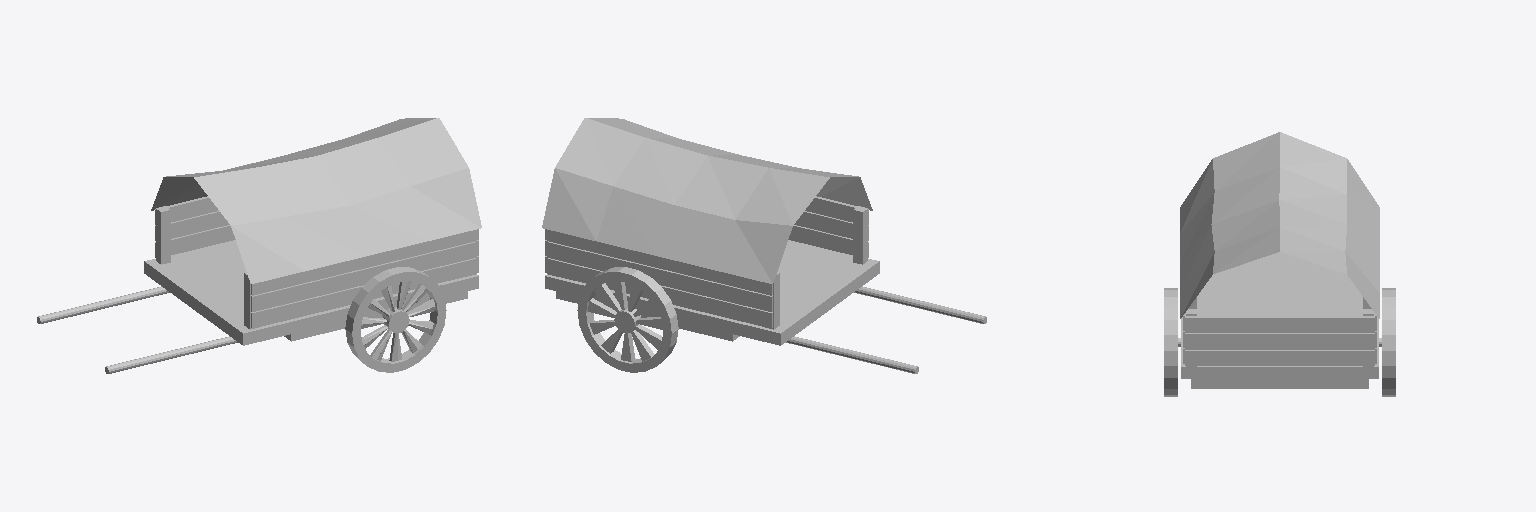
The model's file is Cart.obj.
3 views of the same model, side by side, from view 1: azimuth 30°, elevation 25°; view 2: azimuth 150°, elevation 25°; view 3: azimuth 270°, elevation 25° (orthographic).
Visible parts, largest first — view 1: RR_Cart_Cover_001, RR_Cart_002, RR_Cart_Wheel_001, RR_Cart_SideBoards_004, RR_Cart_SideBoards_001, RR_Cart_SideBoards_006, RR_Cart_Pole_001, RR_Cart_Pole_002, RR_Cart_SideBoards_002, RR_Cart_SideBoards_003, RR_Cart_Post_005, RR_Cart_SideBoards_005 (+1 smaller); view 2: RR_Cart_Cover_001, RR_Cart_002, RR_Cart_Wheel_002, RR_Cart_SideBoards_003, RR_Cart_SideBoards_002, RR_Cart_SideBoards_005, RR_Cart_Pole_002, RR_Cart_Pole_001, RR_Cart_SideBoards_001, RR_Cart_SideBoards_004, RR_Cart_Post_006, RR_Cart_SideBoards_006 (+1 smaller); view 3: RR_Cart_Cover_001, RR_Cart_002, RR_Cart_BackBoards_002, RR_Cart_BackBoards_003, RR_Cart_BackBoards_001, RR_Cart_001, RR_Cart_Wheel_001, RR_Cart_Wheel_002.
Part boxes in pixels (x1,y1,x2,y2): RR_Cart_Cover_001: (151, 118, 481, 283); RR_Cart_002: (144, 240, 478, 345); RR_Cart_Wheel_001: (345, 267, 446, 372); RR_Cart_SideBoards_004: (251, 241, 476, 311); RR_Cart_SideBoards_001: (251, 258, 476, 328); RR_Cart_SideBoards_006: (251, 230, 476, 295); RR_Cart_Pole_001: (105, 336, 237, 373); RR_Cart_Pole_002: (37, 286, 169, 323); RR_Cart_SideBoards_002: (155, 225, 235, 257); RR_Cart_SideBoards_003: (155, 211, 229, 240); RR_Cart_Post_005: (156, 206, 170, 264); RR_Cart_SideBoards_005: (155, 196, 218, 224); RR_Cart_Cover_001: (542, 118, 872, 283); RR_Cart_002: (545, 240, 879, 345); RR_Cart_Wheel_002: (577, 267, 678, 372); RR_Cart_SideBoards_003: (547, 241, 772, 311); RR_Cart_SideBoards_002: (547, 258, 772, 328); RR_Cart_SideBoards_005: (547, 230, 772, 295); RR_Cart_Pole_002: (786, 336, 918, 373); RR_Cart_Pole_001: (854, 286, 986, 323); RR_Cart_SideBoards_001: (788, 225, 868, 257); RR_Cart_SideBoards_004: (794, 211, 868, 240); RR_Cart_Post_006: (853, 206, 867, 264); RR_Cart_SideBoards_006: (805, 196, 868, 224); RR_Cart_Cover_001: (1180, 132, 1379, 318); RR_Cart_002: (1181, 252, 1378, 378); RR_Cart_BackBoards_002: (1185, 333, 1374, 349); RR_Cart_BackBoards_003: (1185, 316, 1374, 332); RR_Cart_BackBoards_001: (1185, 350, 1374, 365); RR_Cart_001: (1191, 379, 1368, 388); RR_Cart_Wheel_001: (1164, 288, 1381, 396); RR_Cart_Wheel_002: (1382, 288, 1395, 396).
Bounding box in the file's own units: 244 × 119 × 134.